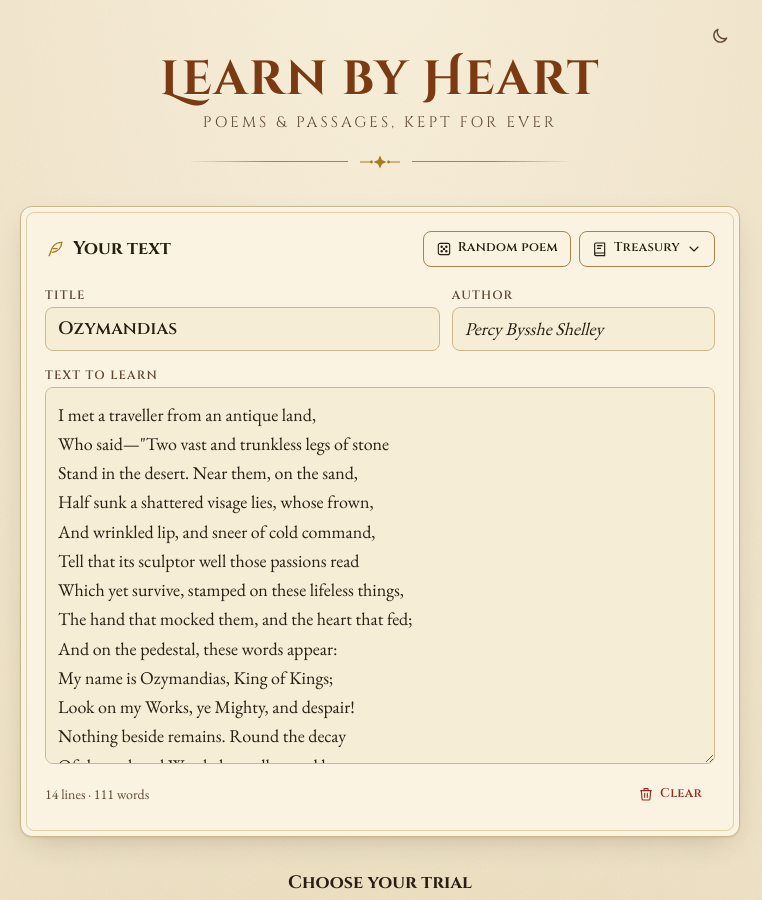
Test: compose screen › starts with a passage from the treasury and lets the user edit it
Expected: the field labelled "Title" holds "Ozymandias", [45,307,440,351]
Replace the text in the text box labelled "Text to learn" with "Two words": coordinates (380, 575) [45,387,715,764]
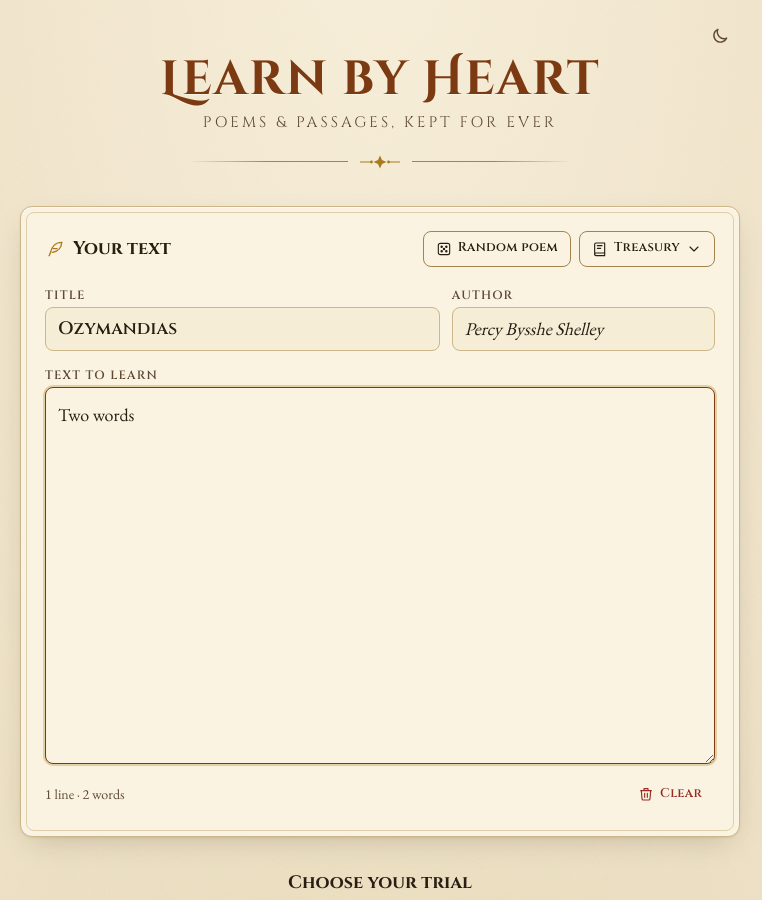
Result: the text "1 line · 2 words" is shown at [45,784,124,804]
